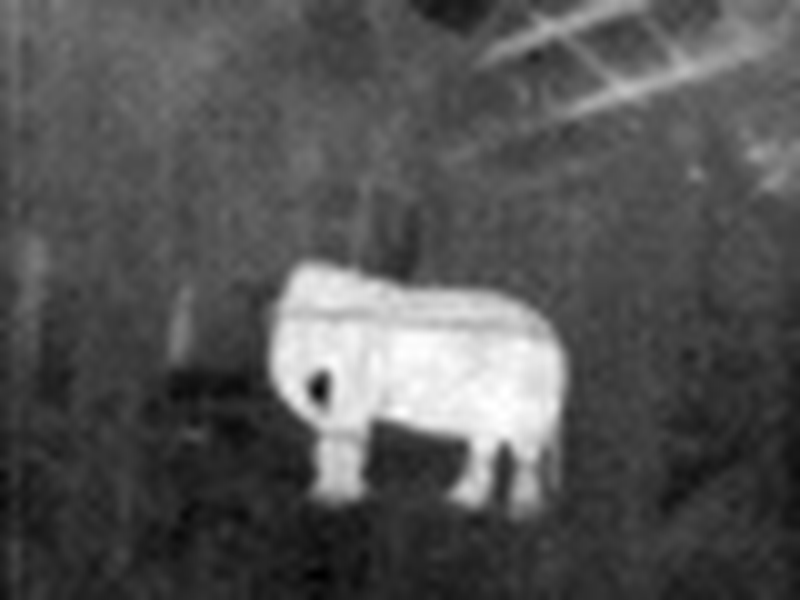elephant: (261, 253, 561, 527)
